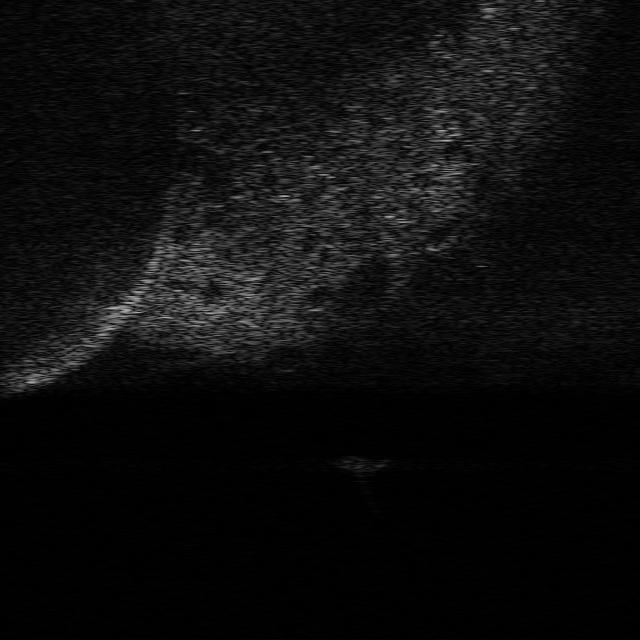cube: (331, 446, 390, 476)
